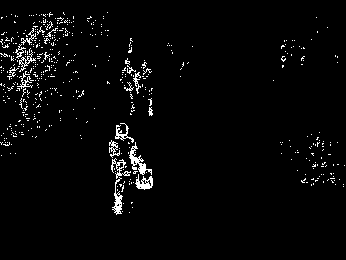person: (96, 120, 159, 220), (117, 61, 142, 113), (142, 60, 159, 117)
